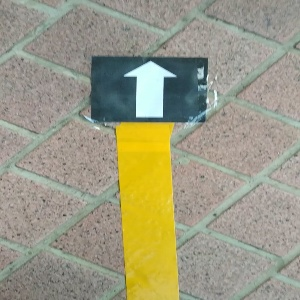straight: (91, 55, 206, 122)
